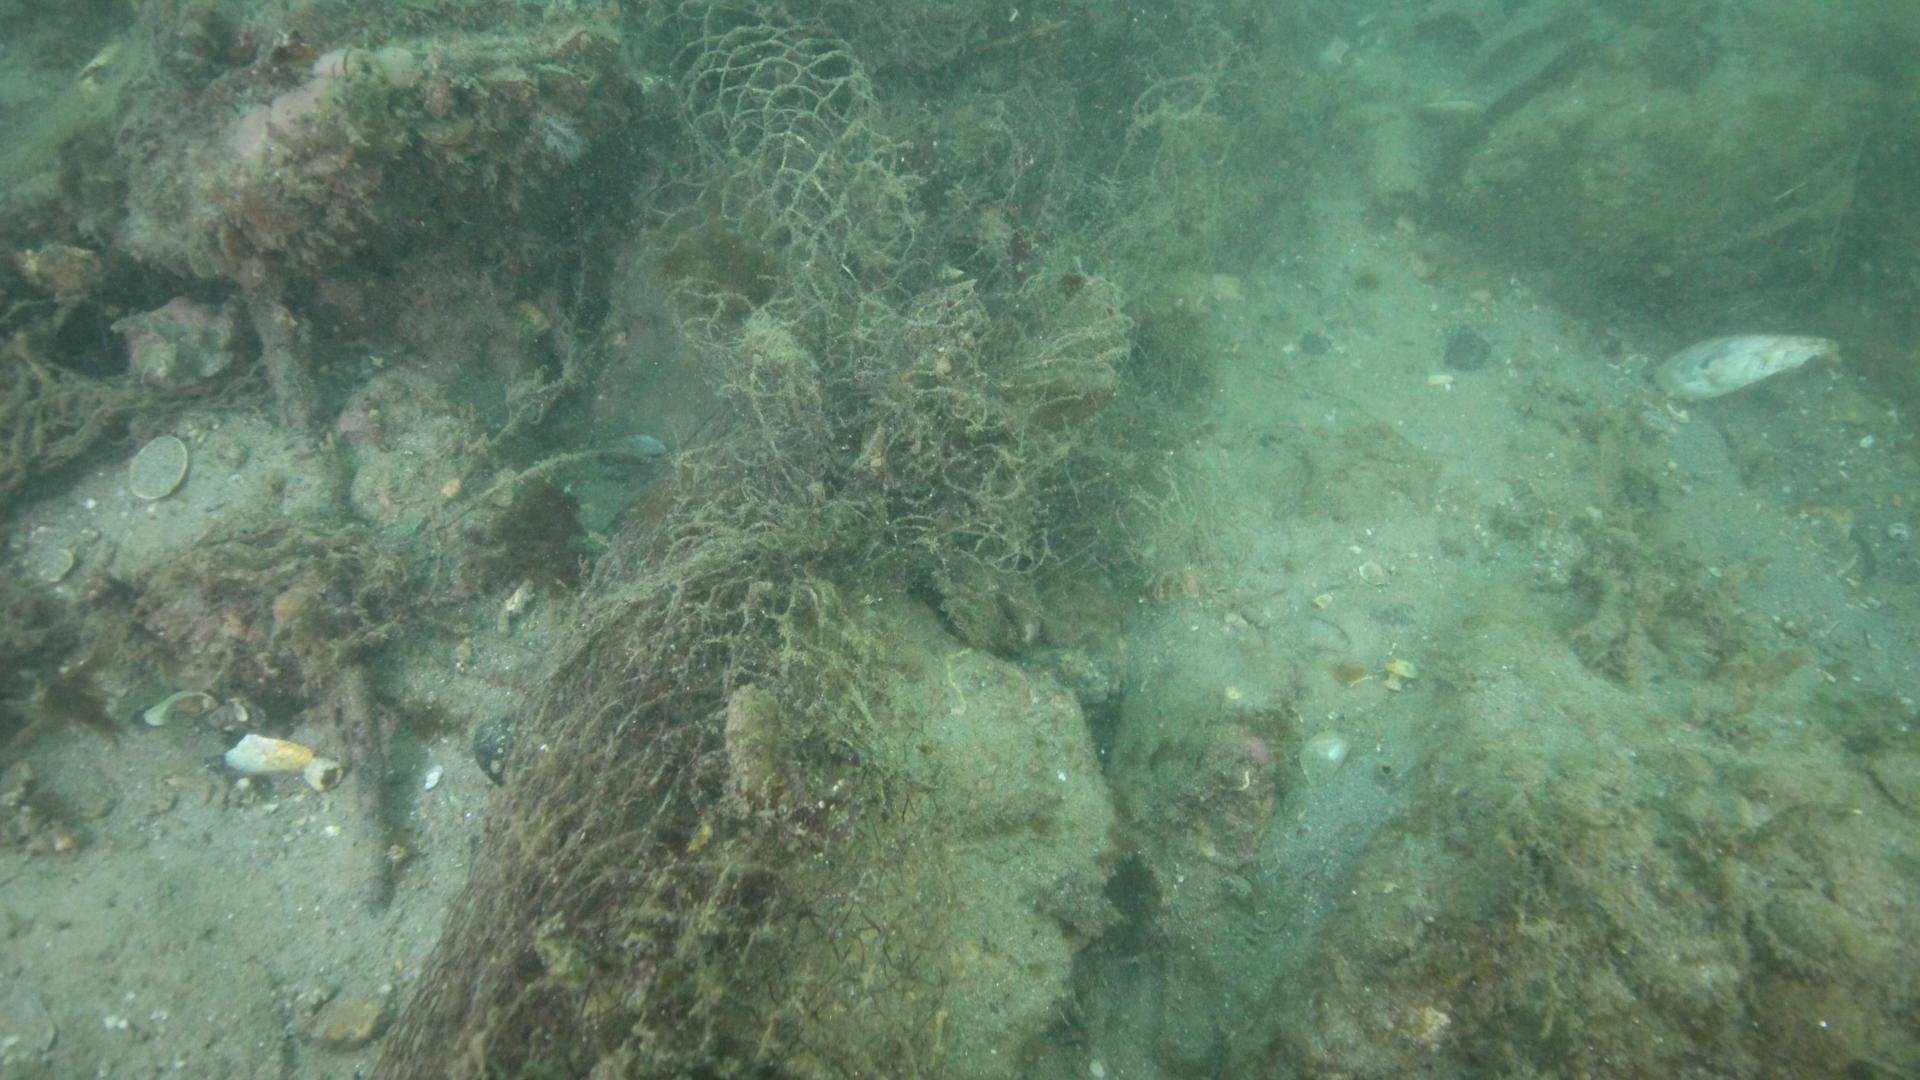fish net: (365, 0, 963, 1080)
